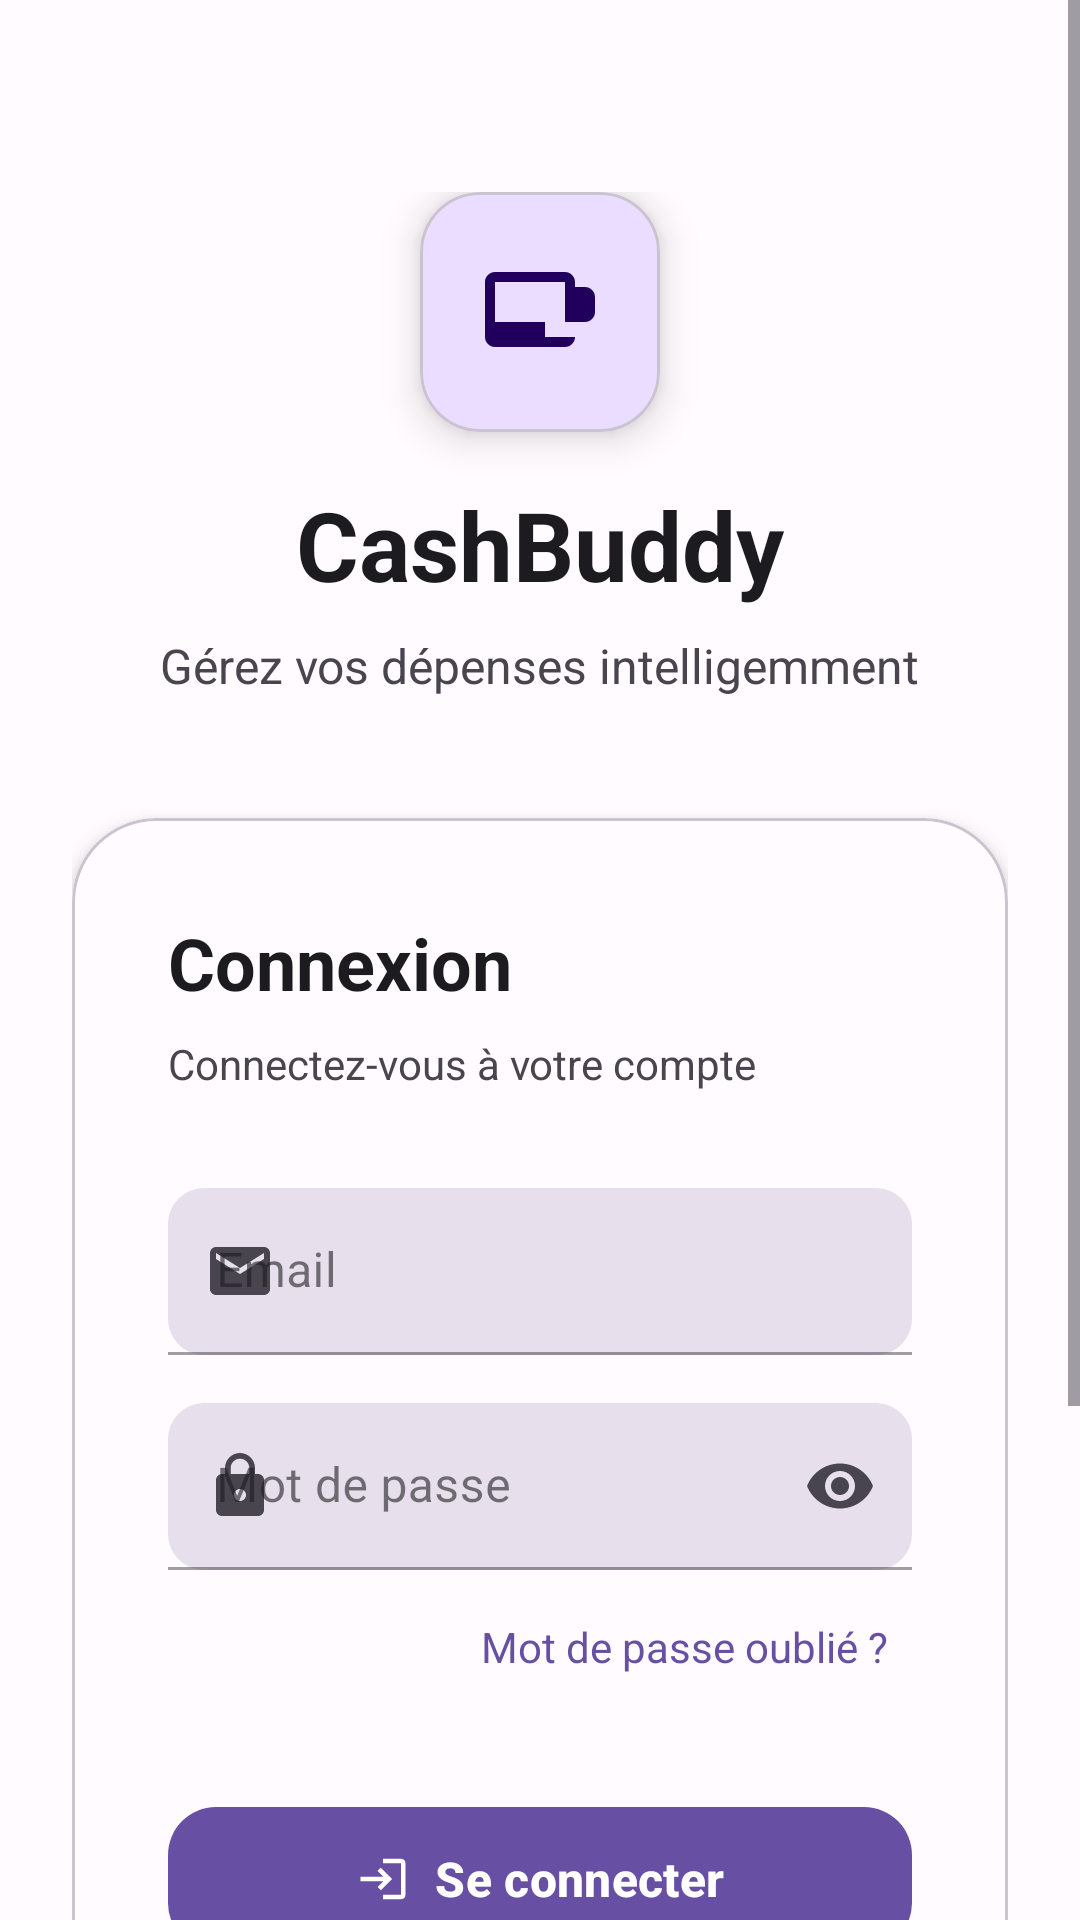

Locate icon controls on the screen. Image size 1080px x 1920px, boxes as (x1, y1, x2, y2).
wallet: (485, 272, 595, 347)
